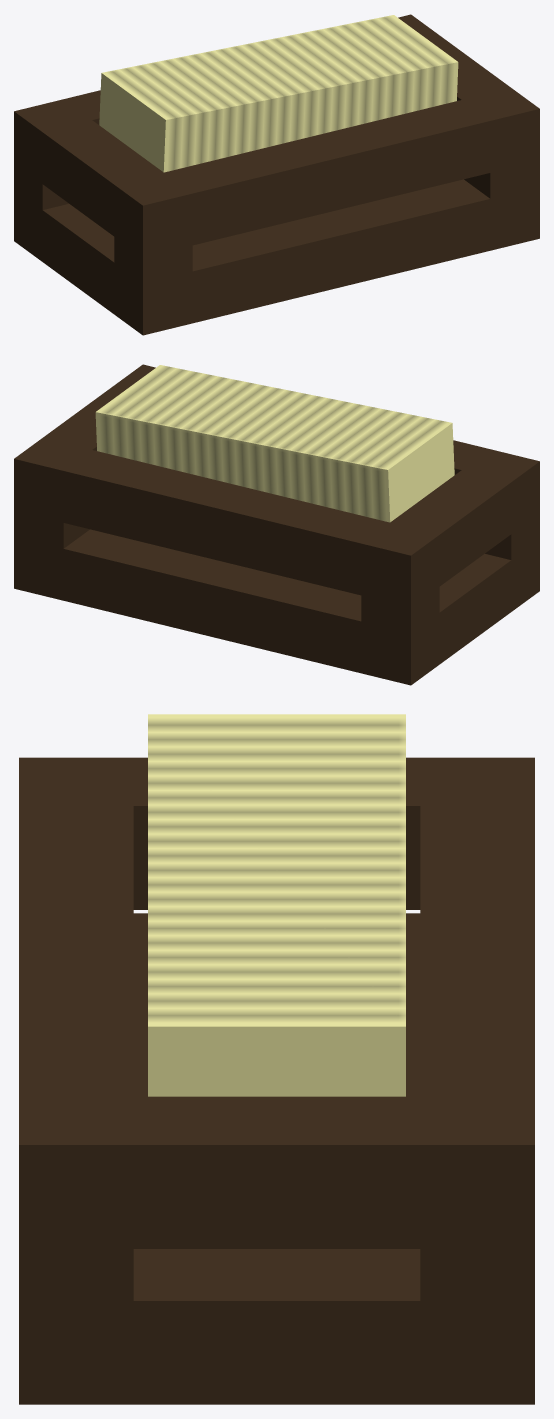
The model's file is Documents.fbx.
The picture shows the model from 3 angles, top to bottom: view 1: azimuth 30°, elevation 25°; view 2: azimuth 150°, elevation 25°; view 3: azimuth 270°, elevation 25°; orthographic projection. The views are drawn at different scales.
Parts seen in each view (by area): view 1: cube, cube_5, cube_2, cube_4, cube_1, cube_9, cube_3, cube_7, cube_8; view 2: cube, cube_5, cube_1, cube_4, cube_2, cube_8, cube_3, cube_6, cube_9; view 3: cube_5, cube, cube_1, cube_2, cube_3, cube_6, cube_7, cube_4.
Boxes of the visible parts, <box> form: cube: <box>14,179,539,335</box>; cube_5: <box>99,15,458,172</box>; cube_2: <box>114,88,539,257</box>; cube_4: <box>42,120,163,236</box>; cube_1: <box>14,14,439,183</box>; cube_9: <box>114,237,192,283</box>; cube_3: <box>427,35,510,100</box>; cube_7: <box>464,161,539,198</box>; cube_8: <box>14,163,68,209</box>; cube: <box>14,529,539,685</box>; cube_5: <box>95,365,454,522</box>; cube_1: <box>14,438,439,607</box>; cube_4: <box>390,470,511,586</box>; cube_2: <box>114,364,539,533</box>; cube_8: <box>361,587,439,633</box>; cube_3: <box>43,385,126,450</box>; cube_6: <box>14,511,89,548</box>; cube_9: <box>485,513,539,559</box>; cube_5: <box>148,714,405,1096</box>; cube: <box>19,913,534,1404</box>; cube_1: <box>420,757,534,1248</box>; cube_2: <box>19,757,133,1248</box>; cube_3: <box>133,1096,420,1248</box>; cube_6: <box>420,1249,534,1300</box>; cube_7: <box>19,1249,133,1300</box>; cube_4: <box>133,757,420,909</box>.
Size of the model in its own units: 100 by 42.94 by 56.25.
Materials: 2 (2 with a texture image).
